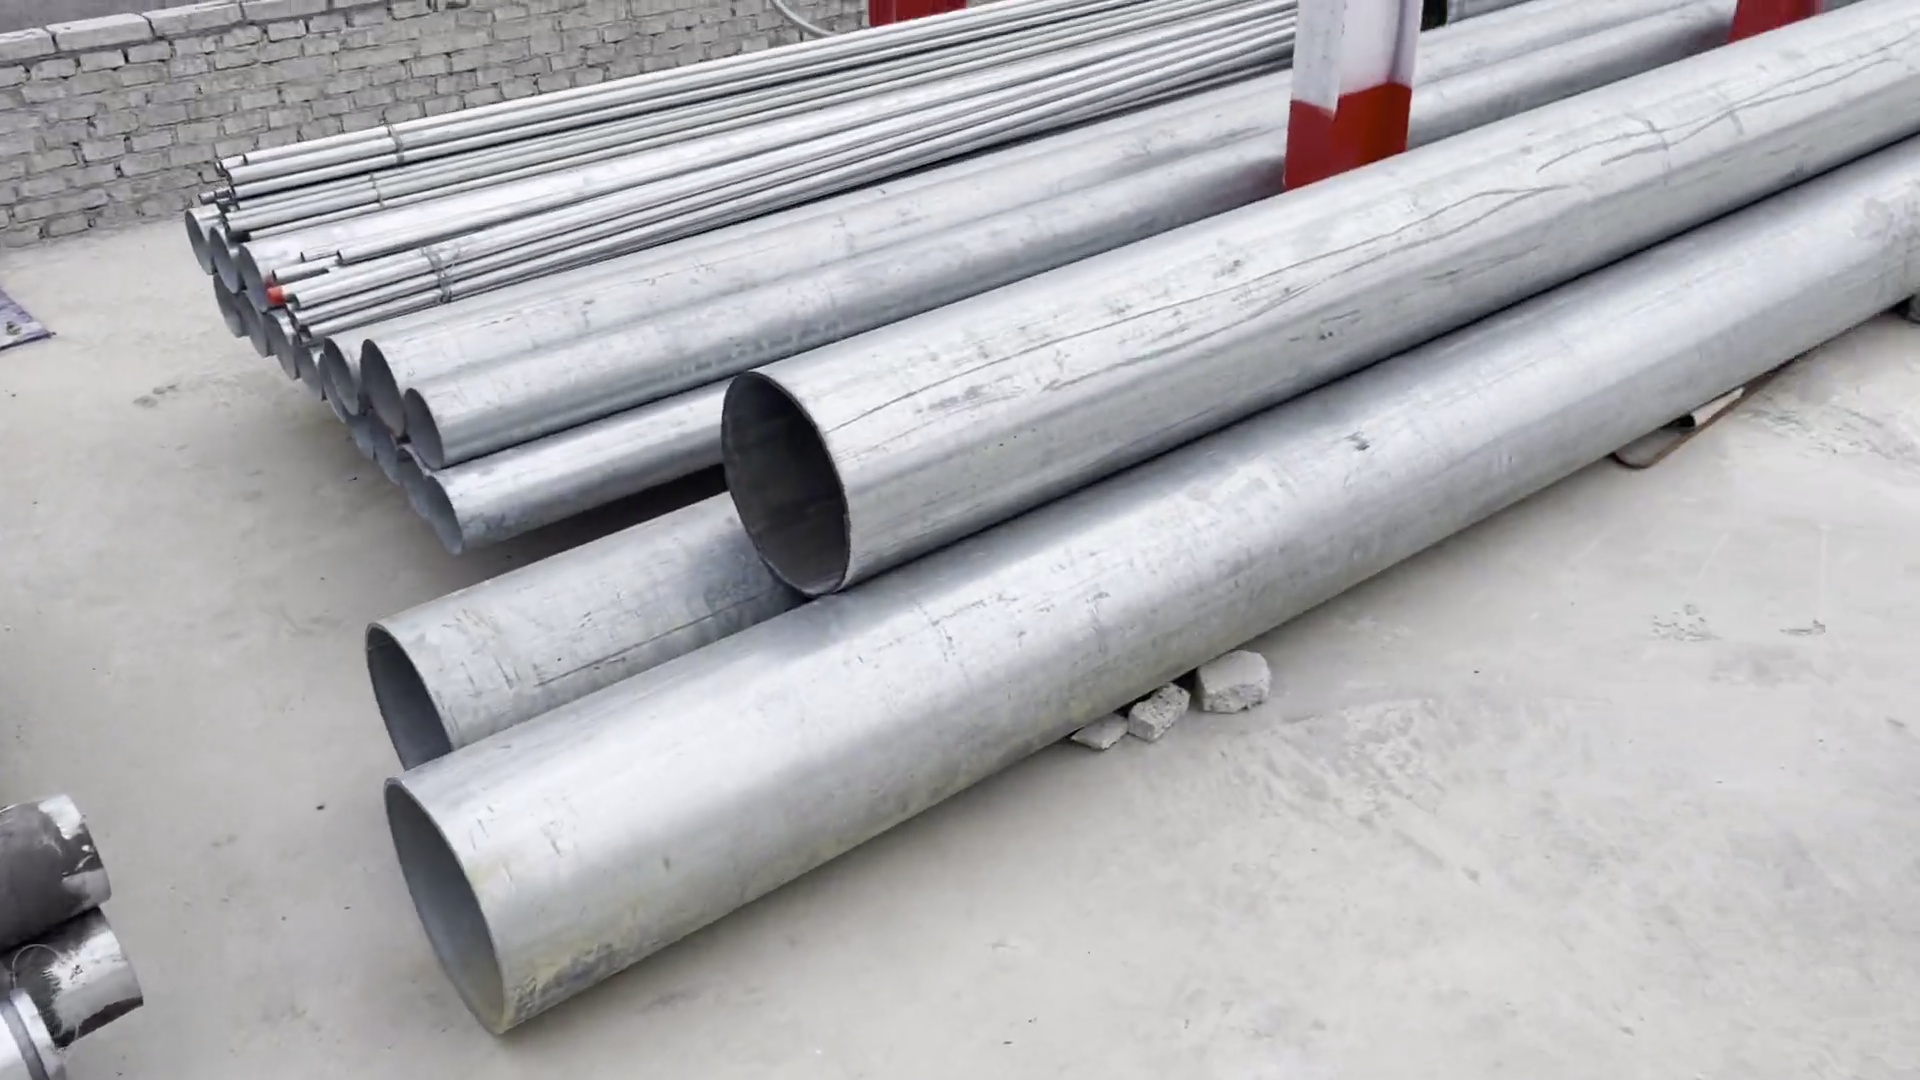brick: (1, 1, 471, 253), (472, 1, 887, 102)
